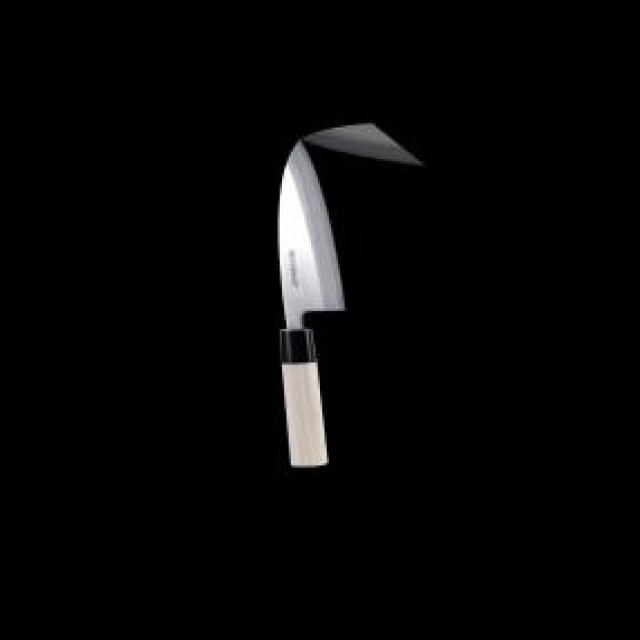knife: (271, 139, 349, 470)
